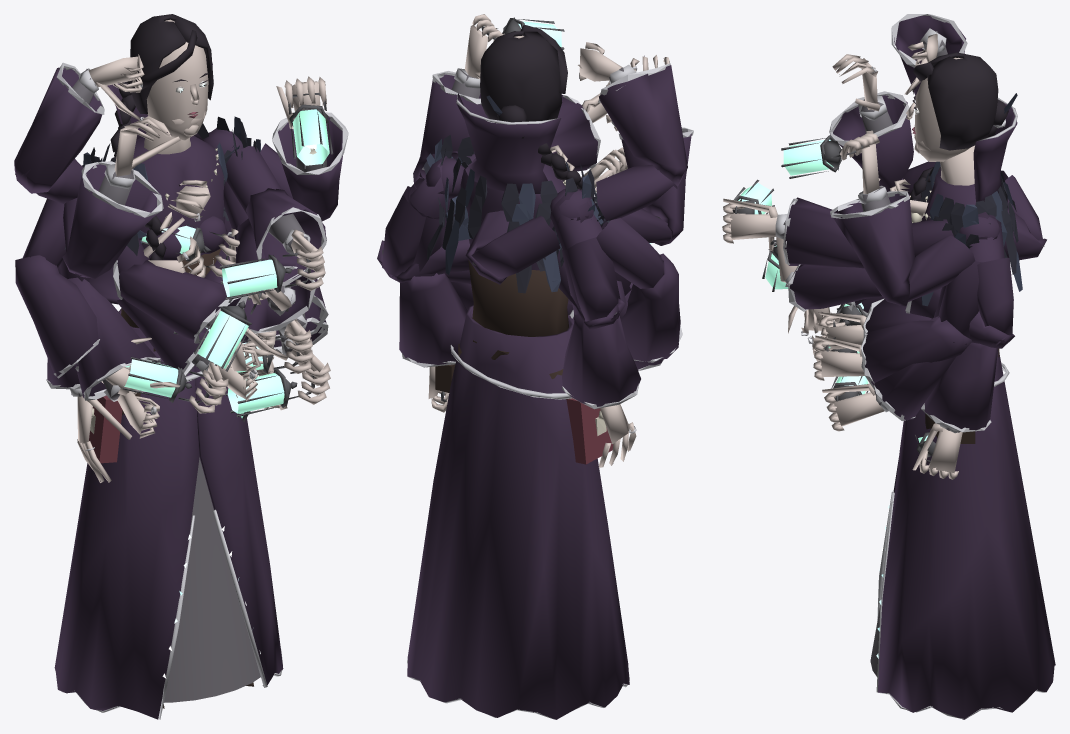
The model's file is hero_14.glb.
3 views of the same model, side by side, from view 1: azimuth 30°, elevation 25°; view 2: azimuth 150°, elevation 25°; view 3: azimuth 270°, elevation 25° (orthographic). The views are drawn at different scales.
Visible parts, largest first — view 1: B_0d, R.cast_6d, R.raised_3d, L.bowArm_12d, R.staffR_5d, L.cast_15d, R.xbowR_8d, L.xbowL_14d, R.weapon_2d, L.weapon_18d, L.twoL_13d, R.twoR_7d (+5 smaller); view 2: B_0d, R.raised_3d, R.staffR_5d, R.rest_1d, L.rest_10d, L.cast_15d, R.draw_4d, R.carry_9d, L.carry_17d, R.cast_6d, L.bowArm_12d, L.xbowL_14d (+1 smaller); view 3: B_0d, L.cast_15d, L.shield_11d, L.bowArm_12d, L.rest_10d, R.cast_6d, L.weapon_18d, L.xbowL_14d, L.carry_17d, R.raised_3d, L.book_16d, R.draw_4d (+1 smaller).
Part boxes in pixels (<box>): B_0d: <box>54,14,283,719</box>; R.cast_6d: <box>62,116,180,278</box>; R.raised_3d: <box>14,54,144,249</box>; L.bowArm_12d: <box>219,145,326,299</box>; R.staffR_5d: <box>15,198,151,395</box>; L.cast_15d: <box>260,76,348,221</box>; R.xbowR_8d: <box>116,237,288,373</box>; L.xbowL_14d: <box>194,145,315,371</box>; R.weapon_2d: <box>60,230,180,438</box>; L.weapon_18d: <box>223,207,330,417</box>; L.twoL_13d: <box>122,176,247,413</box>; R.twoR_7d: <box>116,298,266,401</box>; B_0d: <box>407,25,629,719</box>; R.raised_3d: <box>576,42,687,224</box>; R.staffR_5d: <box>576,206,682,362</box>; R.rest_1d: <box>556,214,640,467</box>; L.rest_10d: <box>399,200,467,412</box>; L.cast_15d: <box>413,14,564,188</box>; R.draw_4d: <box>465,145,596,284</box>; R.carry_9d: <box>557,215,626,330</box>; L.carry_17d: <box>377,177,469,282</box>; R.cast_6d: <box>592,55,693,245</box>; L.bowArm_12d: <box>451,85,617,171</box>; L.xbowL_14d: <box>452,147,655,243</box>; B_0d: <box>870,52,1055,719</box>; L.cast_15d: <box>781,130,987,306</box>; L.shield_11d: <box>813,239,993,390</box>; L.bowArm_12d: <box>722,179,953,268</box>; L.rest_10d: <box>912,240,998,479</box>; R.cast_6d: <box>829,54,935,194</box>; L.weapon_18d: <box>822,285,955,431</box>; L.xbowL_14d: <box>762,236,881,311</box>; L.carry_17d: <box>905,236,1014,348</box>; R.raised_3d: <box>891,14,967,95</box>; L.book_16d: <box>818,298,931,350</box>; R.draw_4d: <box>890,175,1046,260</box>.
Size of the model in its own units: 0.8279 by 1.76 by 0.8576.
